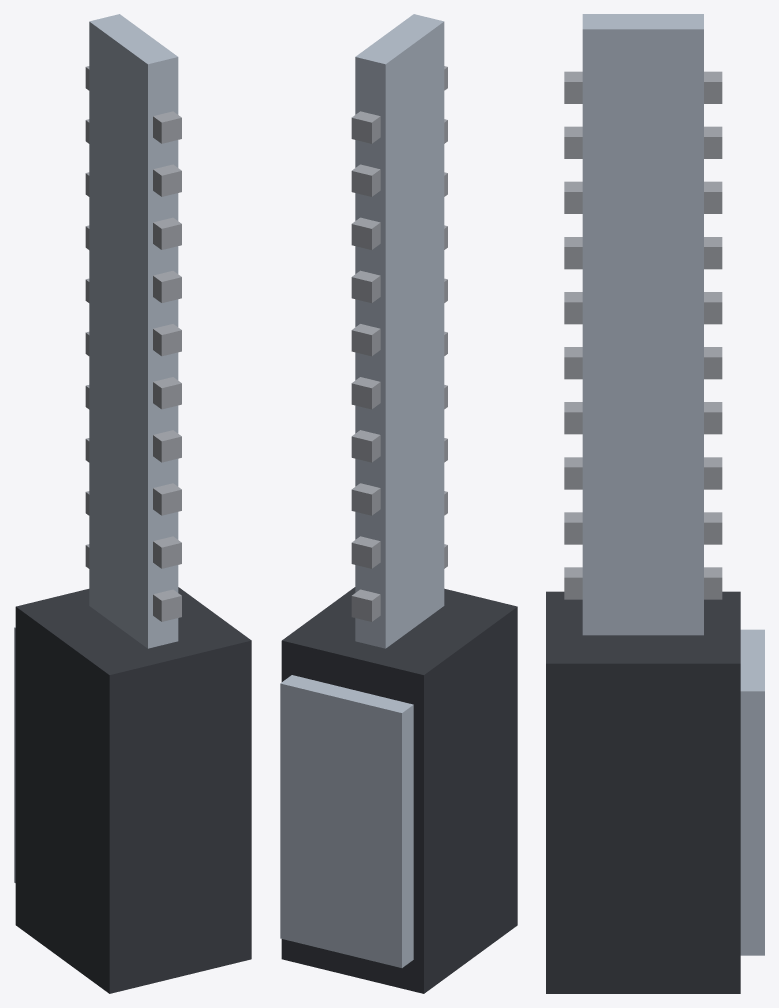
Rendered from titanium_chainsaw.glb.
The picture shows the model from 3 angles, left to right: view 1: azimuth 30°, elevation 25°; view 2: azimuth 150°, elevation 25°; view 3: azimuth 270°, elevation 25°; orthographic projection. The views are drawn at different scales.
Parts seen in each view (by area): view 1: titanium_chainsaw_v0; view 2: titanium_chainsaw_v0; view 3: titanium_chainsaw_v0.
Part boxes in pixels (<box>): titanium_chainsaw_v0: <box>14,14,251,993</box>; titanium_chainsaw_v0: <box>280,14,517,993</box>; titanium_chainsaw_v0: <box>546,14,764,993</box>.
Bounding box in the file's own units: 0.14 × 0.85 × 0.18.
